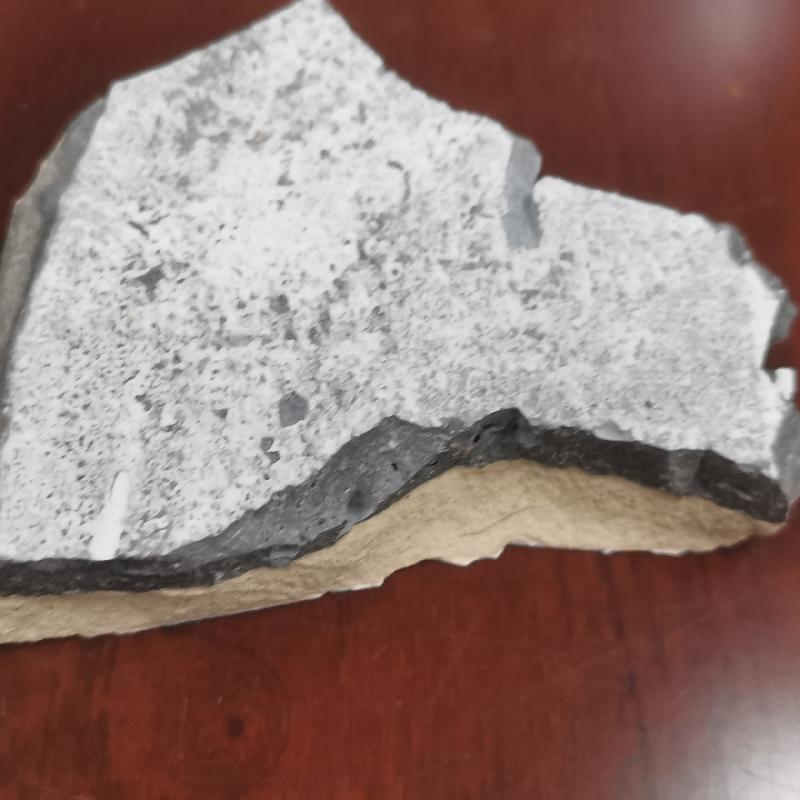tile: (5, 1, 799, 649)
